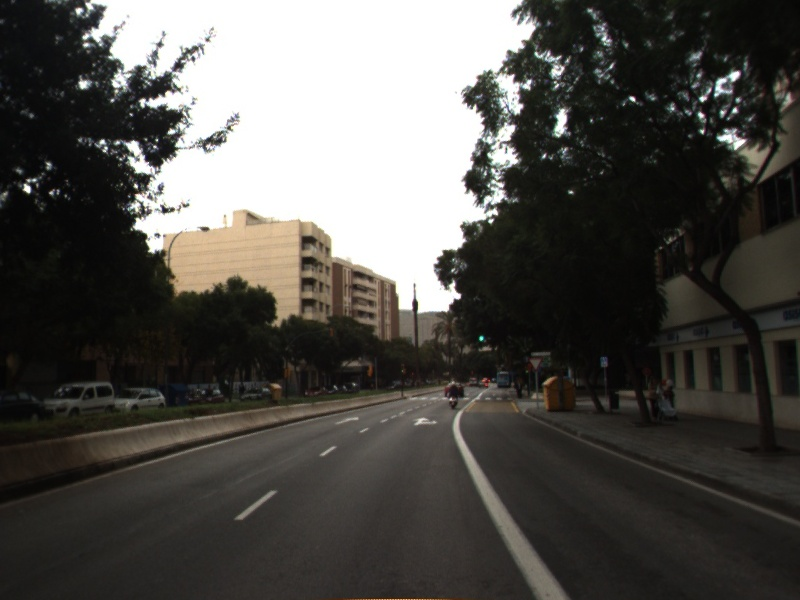STRAIGHT: (332, 414, 362, 427)
STRAIGHT_RIGHT: (410, 415, 440, 427)
